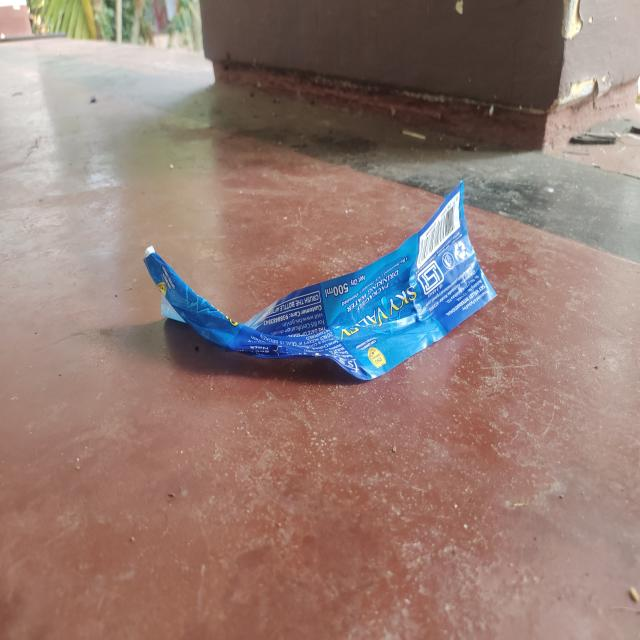plastic: (140, 175, 499, 386)
